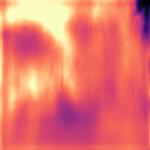painting: (1, 10, 140, 122)
